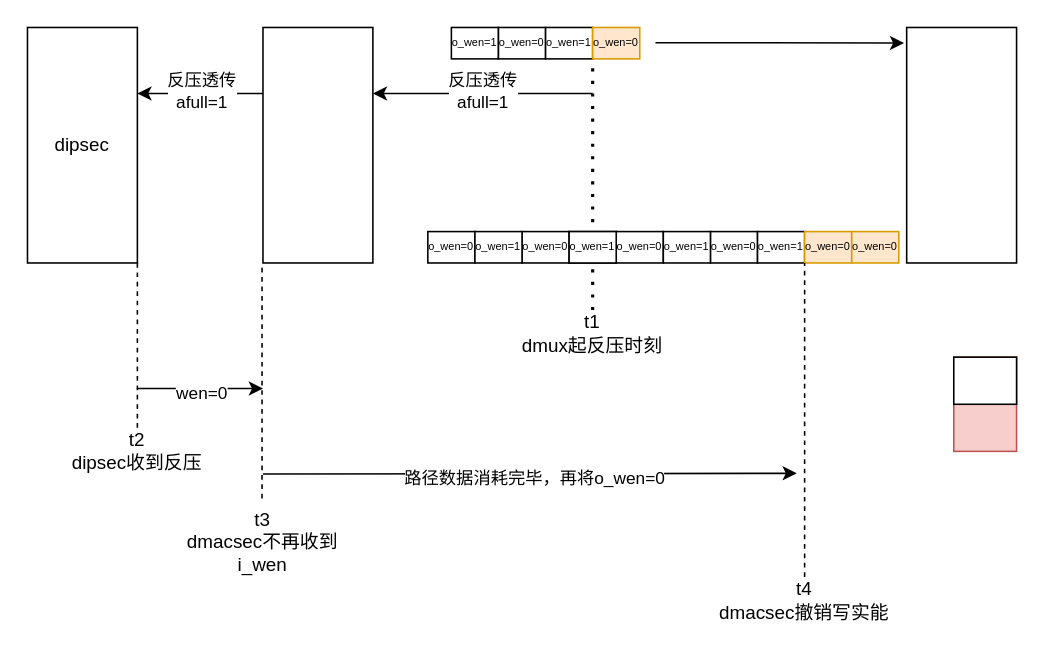
Image size: 1046x652. Some labels were removed from this diagram. Each missing label, with the box of its shape:
dmacsec: (261, 26, 373, 263)
dmux: (905, 26, 1017, 263)
